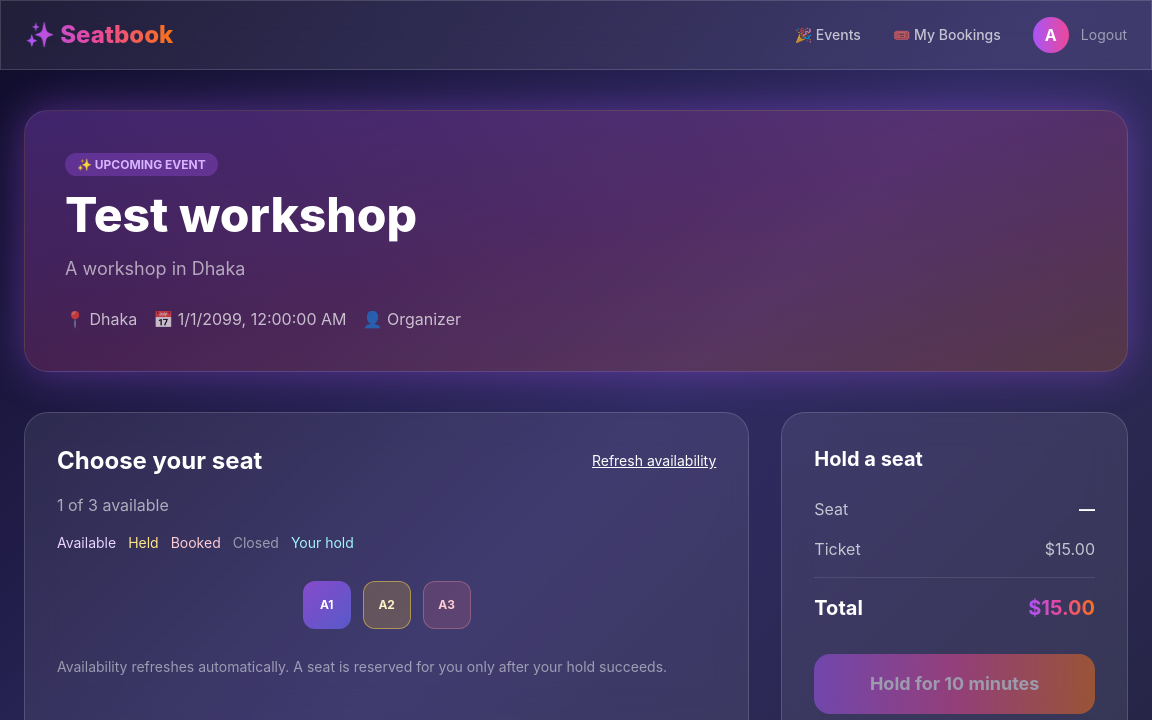
Test case: handles an acquisition conflict and refreshes the losing seat
Click the button named "Seat A1, available". click: (327, 605)
box: [303,581,351,629]
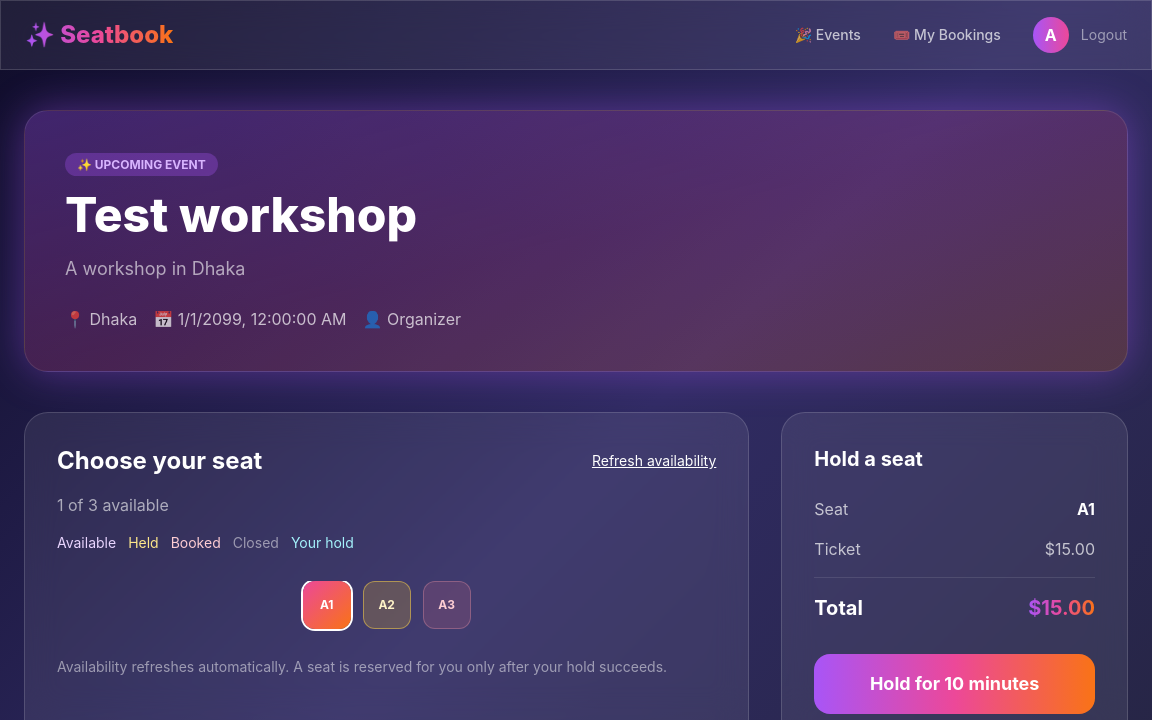
Check: the button "Hold for 10 minutes" is enabled
Click the button "Hold for 10 minutes". click: (955, 684)
box: [814,654,1095,714]
(page scrolled)
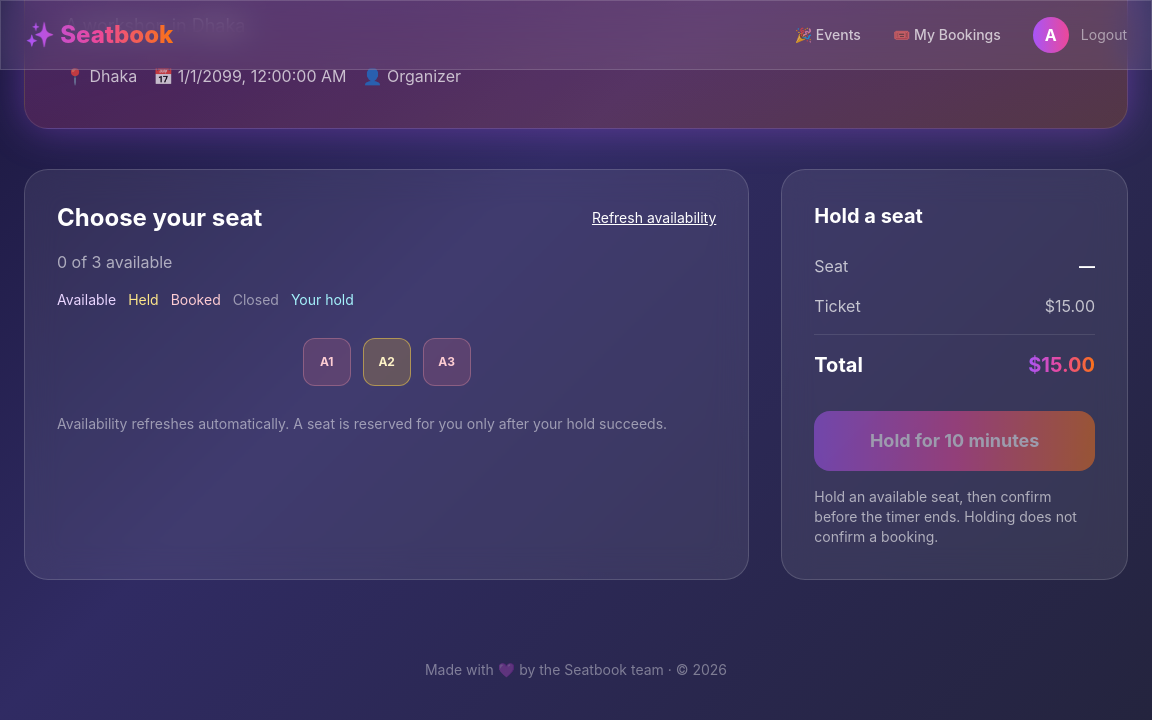
Check: the button named "Seat A1, booked" is shown, box [303,338,351,386]
